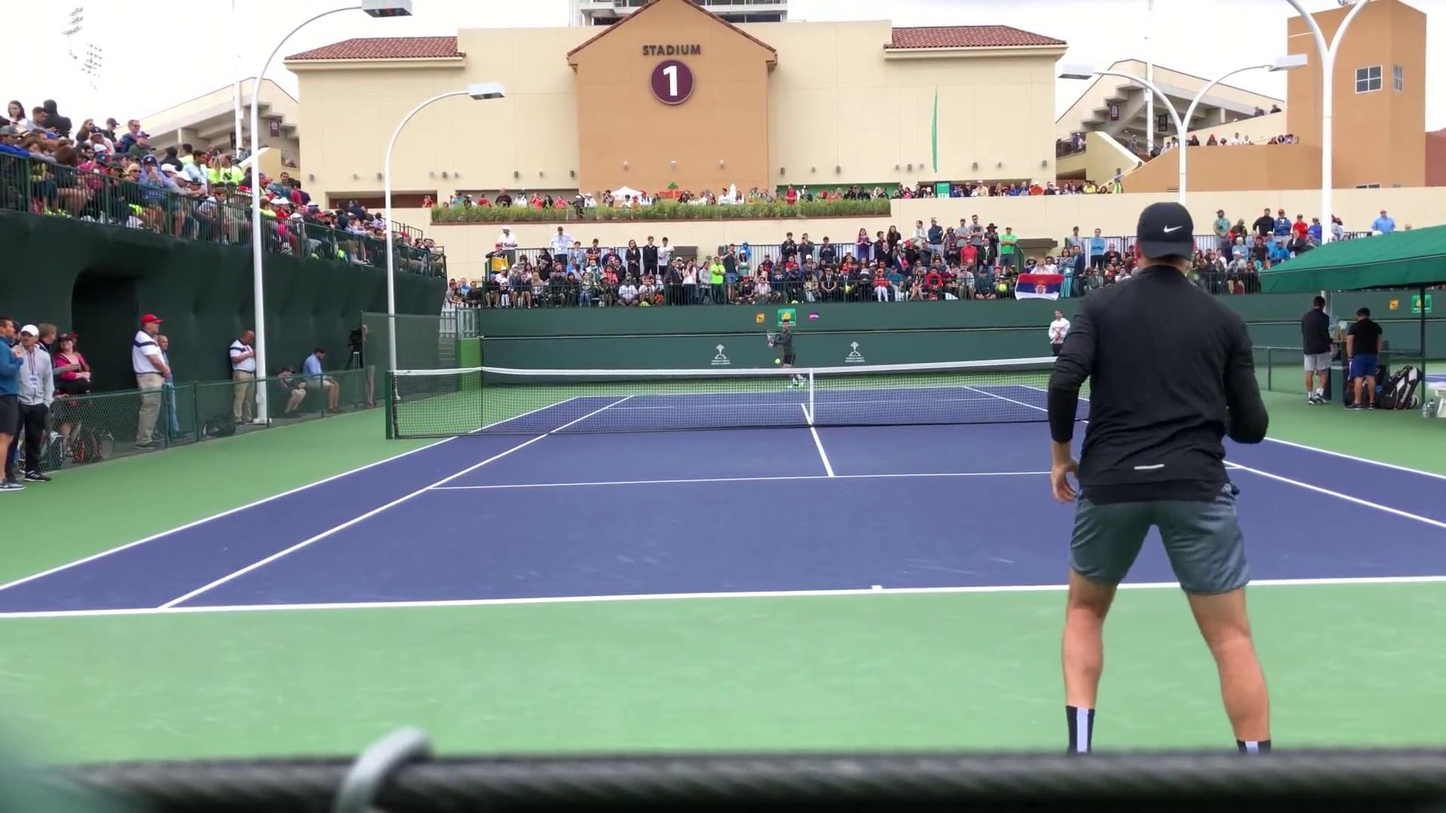ball: (772, 358, 781, 365)
